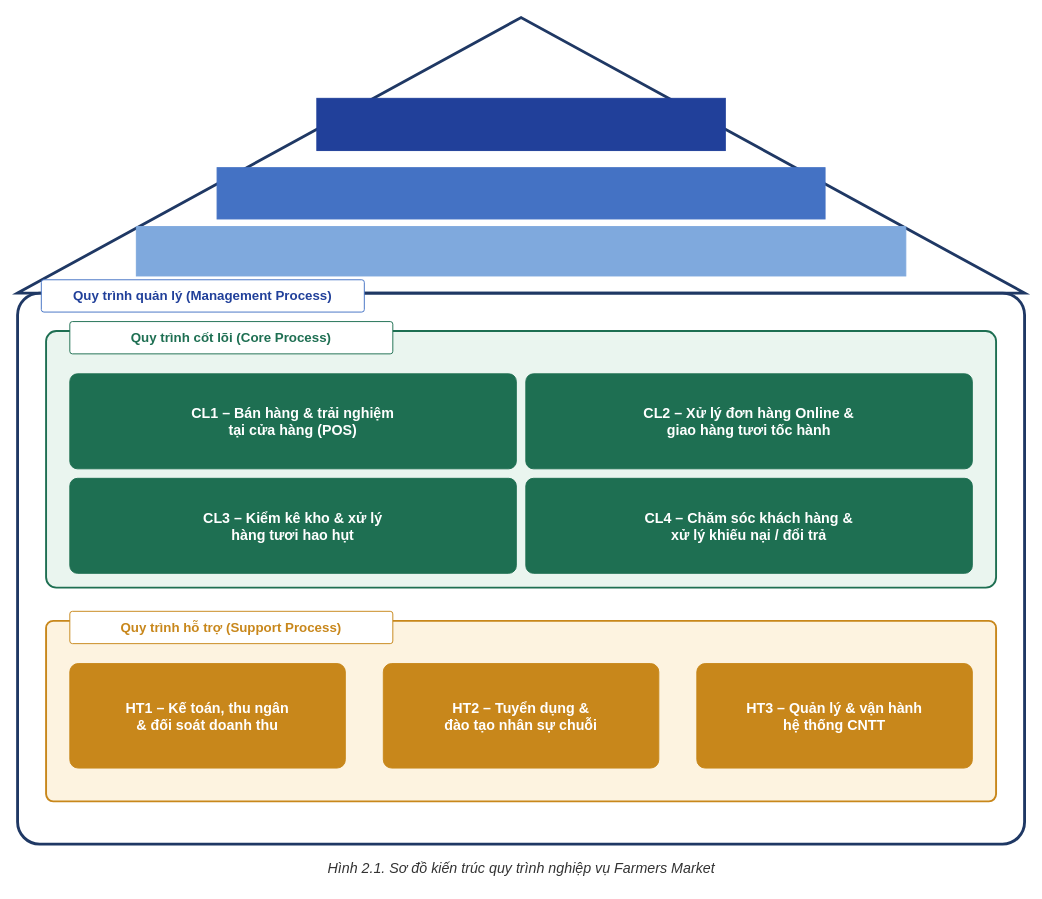
Image size: 1042x899. Some labels were removed from this diagram. The shapes that lost their labels are listed below. From the top down, each one's centre as x and y in pixels, then its label:
point 520,124: QL3 – Hoạch định kinh doanh & mở rộng chuỗi cửa hàng
point 520,193: QL1 – Quản lý chuỗi cung ứng & thu mua nông sản
point 520,251: QL2 – Quản lý chất lượng & an toàn thực phẩm (QA/QC)
